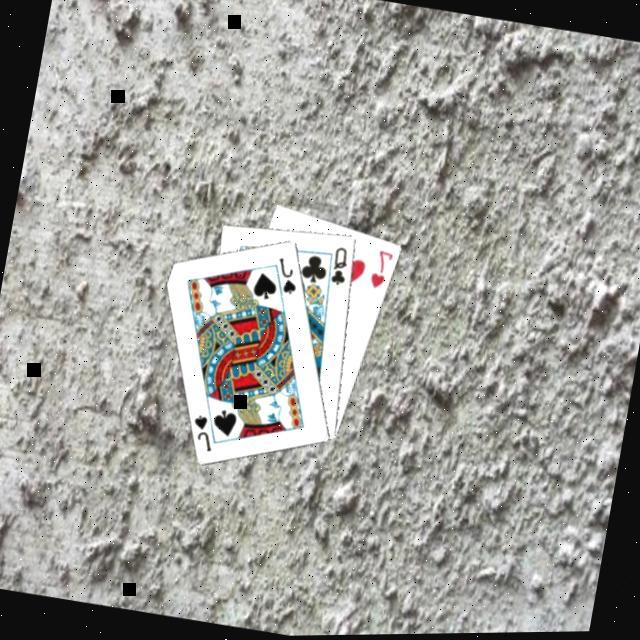7H: (365, 248, 396, 295)
JS: (184, 412, 219, 456), (269, 256, 303, 300)
QC: (325, 244, 352, 291)
